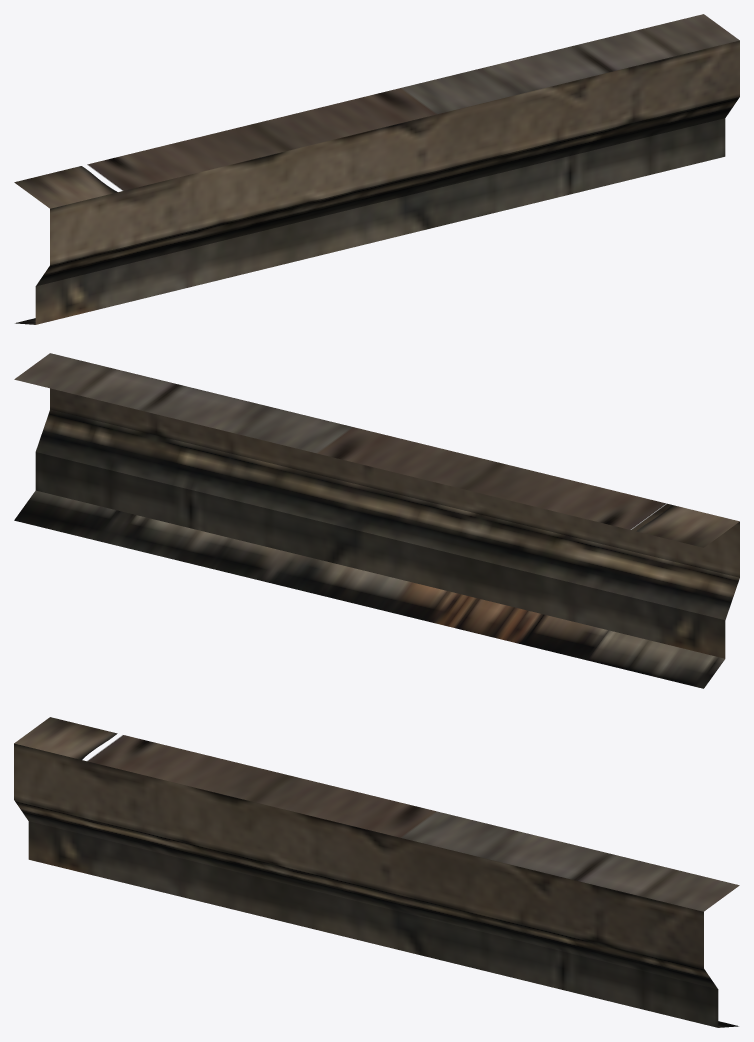
The model's file is overlap_concrete_6.fbx.
3 views of the same model, one above another, from view 1: azimuth 30°, elevation 25°; view 2: azimuth 150°, elevation 25°; view 3: azimuth 330°, elevation 25° (orthographic).
Parts seen in each view (by area): view 1: overlap_concrete_6; view 2: overlap_concrete_6; view 3: overlap_concrete_6.
Boxes of the visible parts, <box> form: overlap_concrete_6: <box>14,14,739,324</box>; overlap_concrete_6: <box>14,353,739,688</box>; overlap_concrete_6: <box>14,717,739,1027</box>.
Bounding box in the file's own units: 3 × 0.586 × 0.2724.
